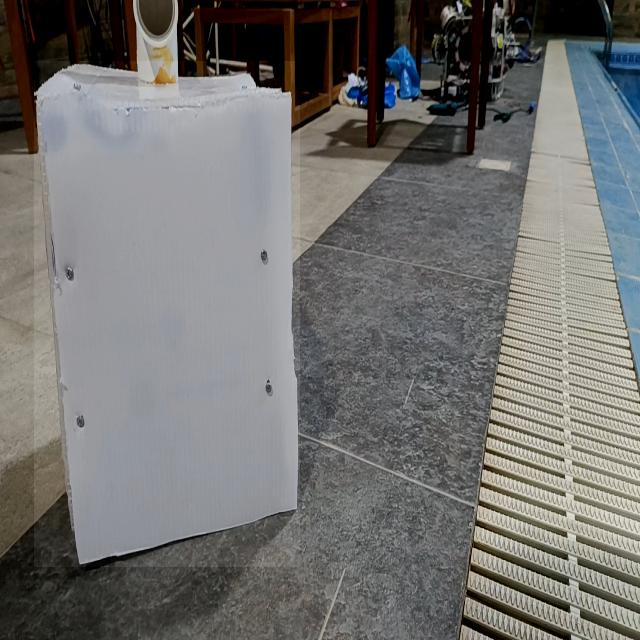Cube: (34, 61, 300, 567)
